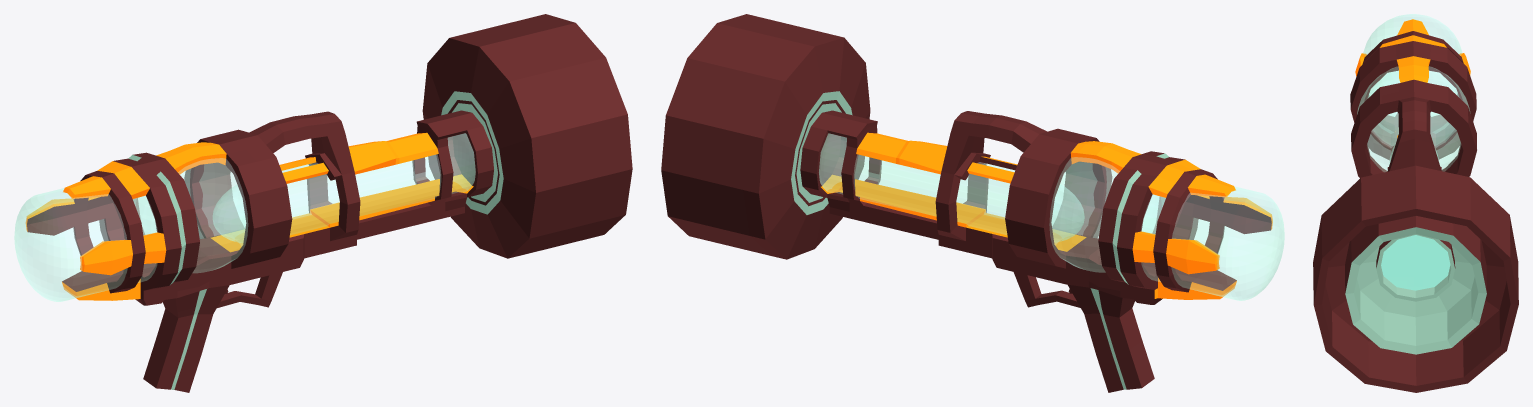
The model's file is Pistola.fbx.
3 renders of one model, left to right at view 1: azimuth 30°, elevation 25°; view 2: azimuth 150°, elevation 25°; view 3: azimuth 270°, elevation 25°, orthographic. The views are drawn at different scales.
Visible parts, largest first — view 1: Pistola, Pistola cargador 03, Pistola cargador 01, Pistola cargador 02; view 2: Pistola, Pistola cargador 03, Pistola cargador 01, Pistola cargador 02; view 3: Pistola, Pistola cargador 02, Pistola cargador 03.
Boxes of the visible parts, <box> form: Pistola: <box>25,14,632,392</box>; Pistola cargador 03: <box>14,188,157,301</box>; Pistola cargador 01: <box>213,133,475,242</box>; Pistola cargador 02: <box>133,158,247,272</box>; Pistola: <box>661,14,1272,392</box>; Pistola cargador 03: <box>1141,186,1284,300</box>; Pistola cargador 01: <box>819,133,1084,241</box>; Pistola cargador 02: <box>1049,157,1165,272</box>; Pistola: <box>1313,19,1518,392</box>; Pistola cargador 02: <box>1357,66,1469,171</box>; Pistola cargador 03: <box>1363,14,1462,145</box>.
Size of the model in its own units: 1075 by 499 by 380.
